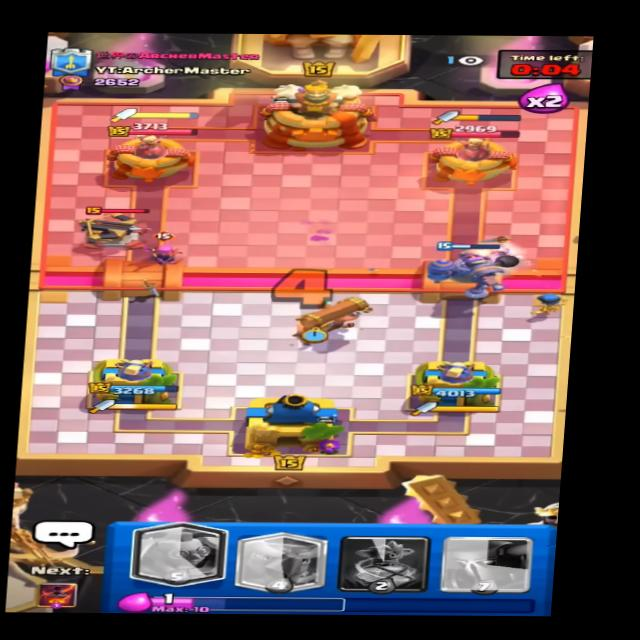evo-archers: (144, 236, 192, 270)
x-bow: (71, 202, 164, 255)
